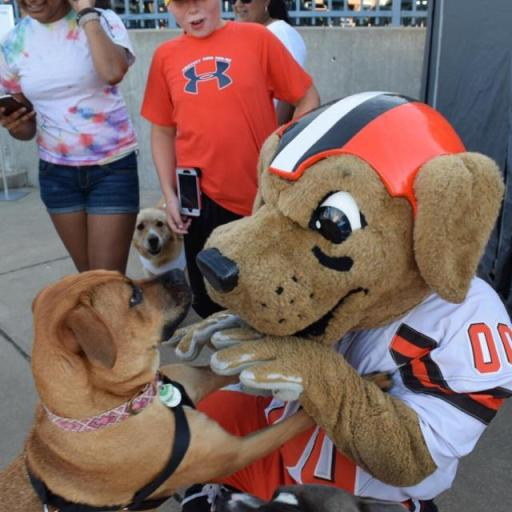Under Armour: (180, 53, 234, 96)
